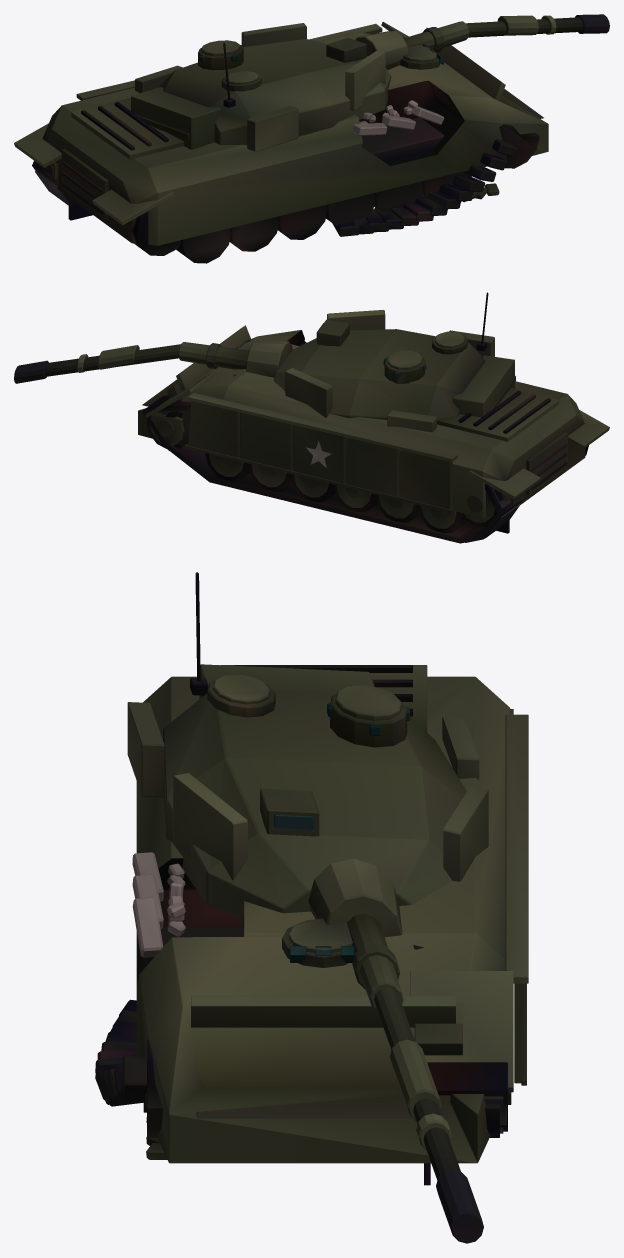
Rendered from veh.tank.wrecked.glb.
The picture shows the model from 3 angles, top to bottom: view 1: azimuth 30°, elevation 25°; view 2: azimuth 150°, elevation 25°; view 3: azimuth 270°, elevation 25°; orthographic projection. The views are drawn at different scales.
Visible parts, largest first — view 1: body, turret, gun; view 2: body, turret, gun; view 3: body, turret, gun.
Part boxes in pixels (<box>): body: <box>14,22,548,263</box>; turret: <box>131,23,391,151</box>; gun: <box>355,14,609,69</box>; body: <box>138,325,609,543</box>; turret: <box>273,292,515,432</box>; gun: <box>14,340,292,383</box>; body: <box>95,665,528,1185</box>; turret: <box>127,572,488,917</box>; gun: <box>308,858,483,1243</box>.
Size of the model in its own units: 9.62 by 3.29 by 3.53.
